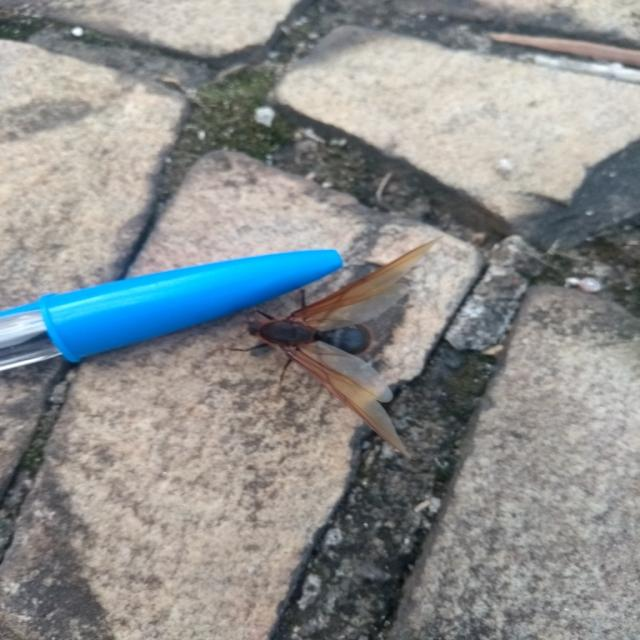Alive-Male-Alate: (229, 236, 440, 459)
